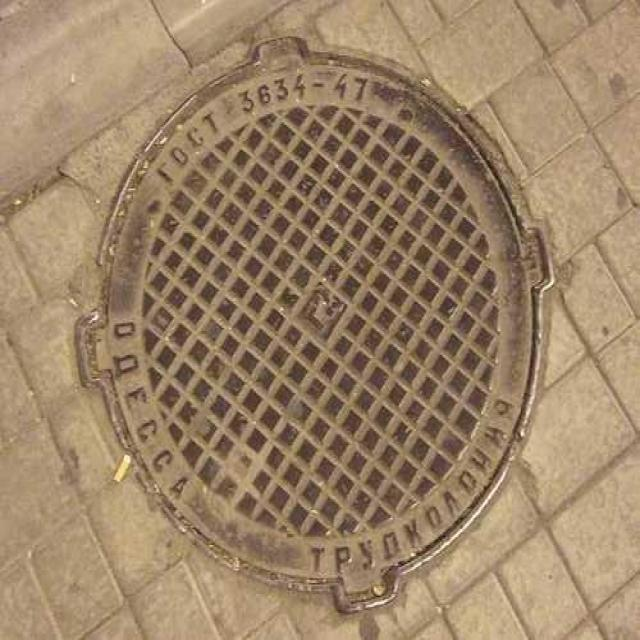manhole: (79, 39, 551, 611)
